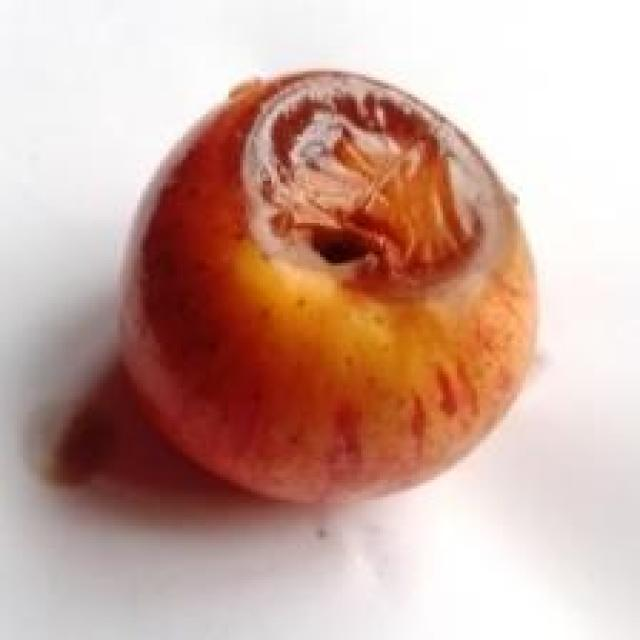rotten apple: (47, 39, 564, 550)
